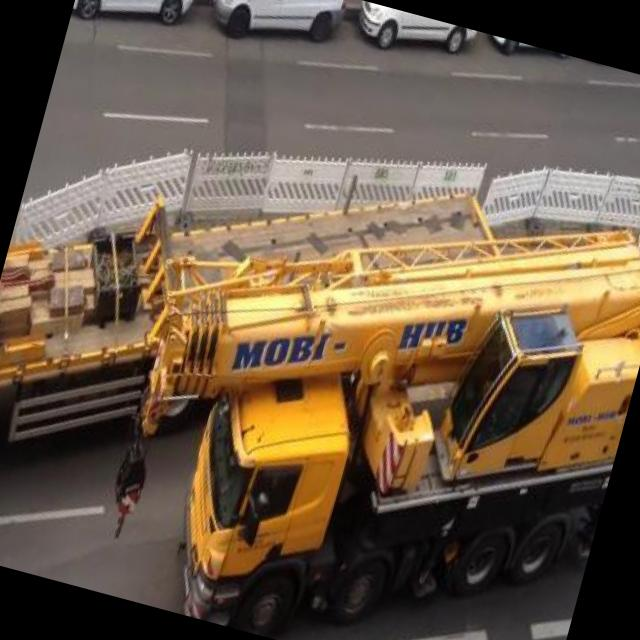Mobile Crane: (74, 107, 640, 640)
